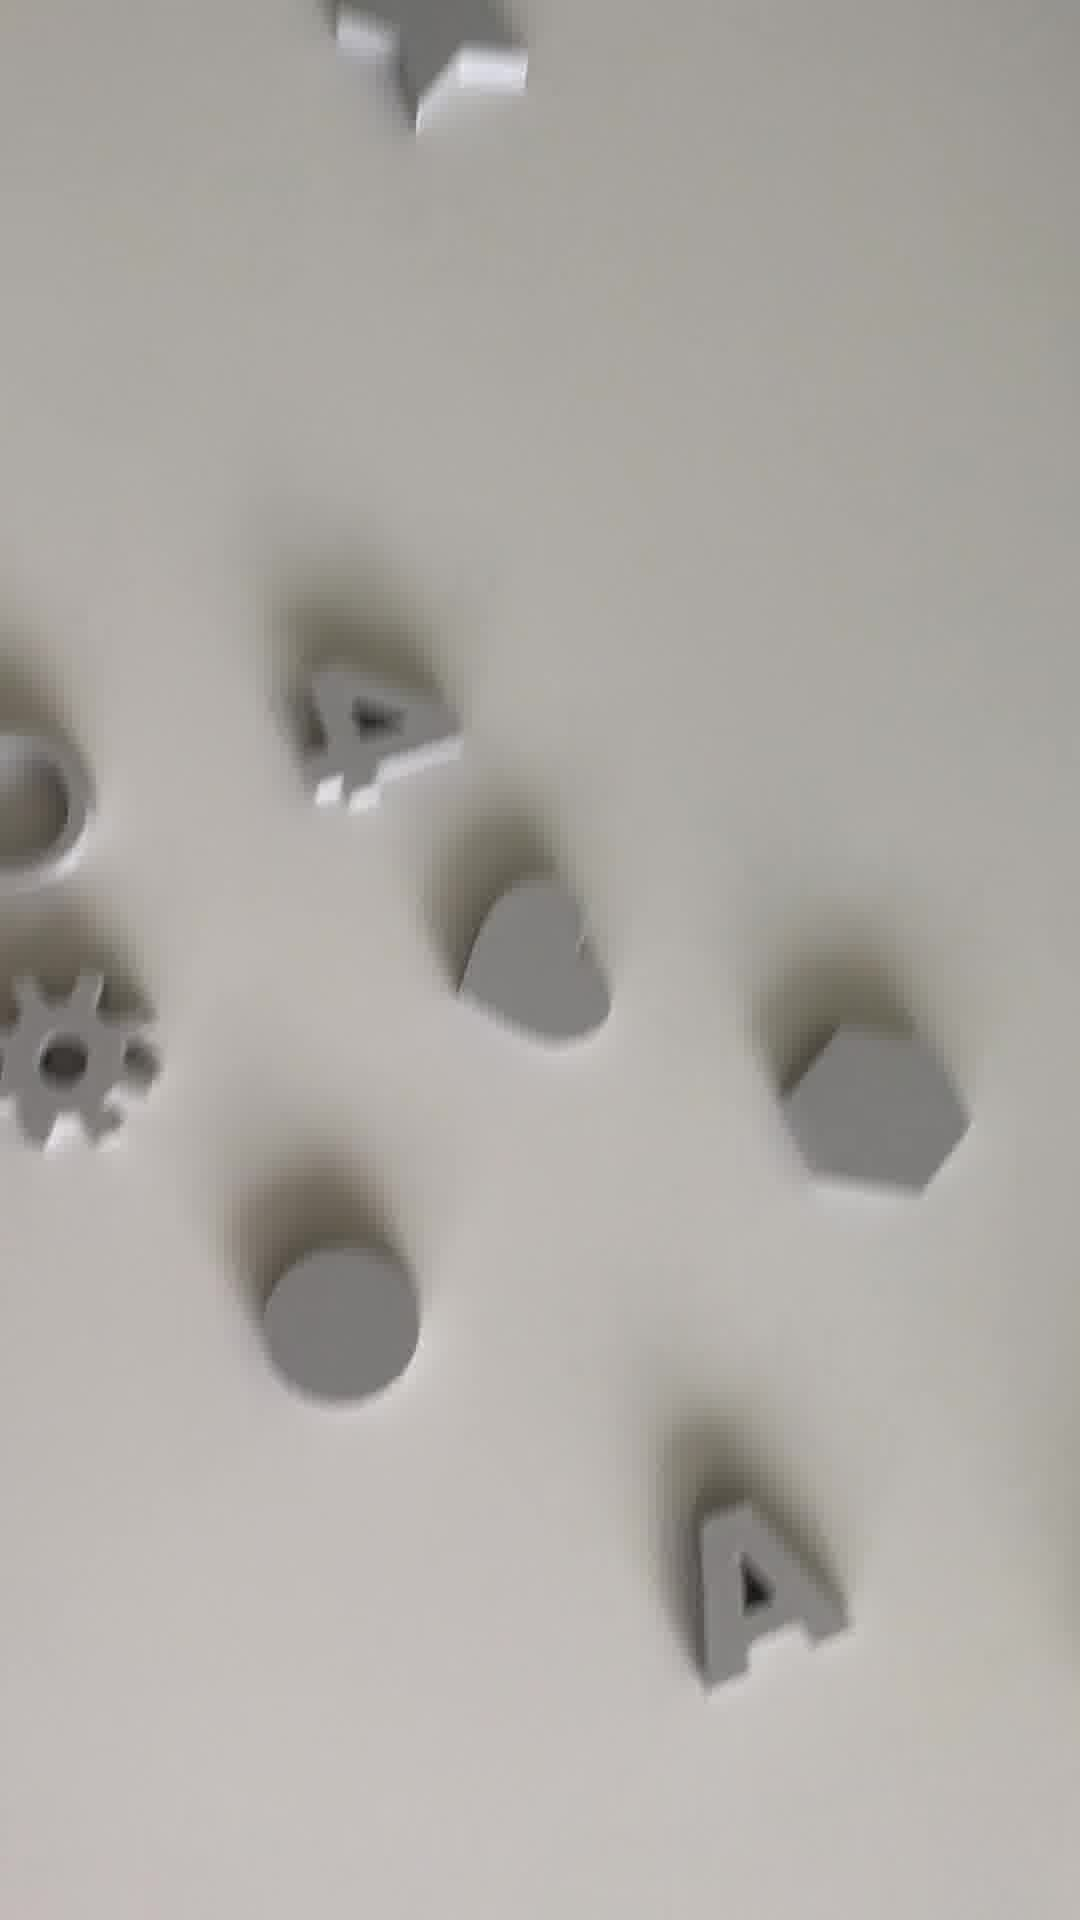Gray A-letter: (673, 1484, 851, 1695)
Gray circle: (255, 1218, 410, 1414)
Gray four: (276, 657, 467, 810)
Gray gear: (1, 969, 164, 1150)
Gray heart: (448, 869, 611, 1044)
Gray hexagon: (769, 1011, 971, 1197)
Gray ring: (1, 736, 113, 897)
Gray star: (322, 1, 560, 142)
